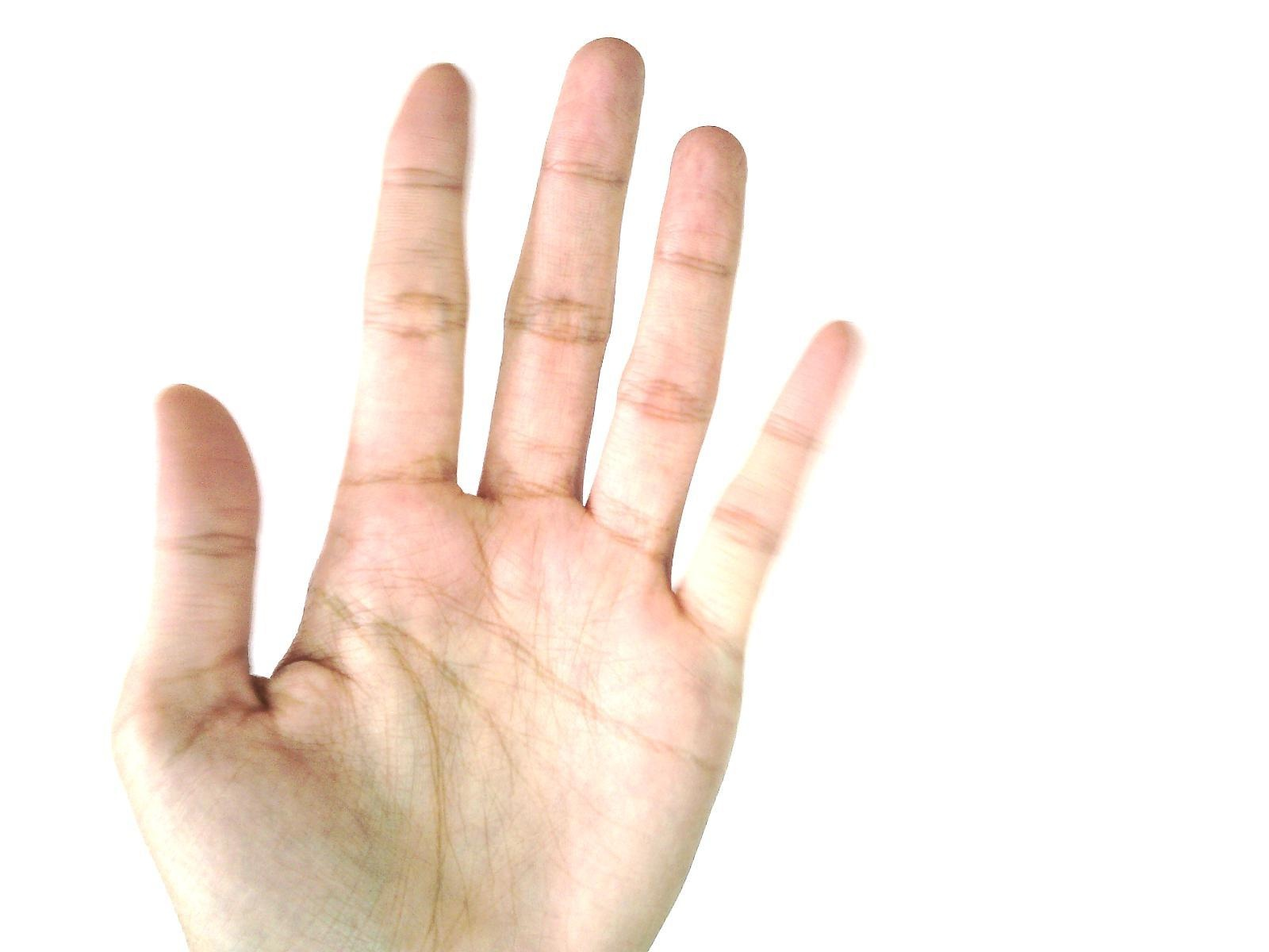open_palm: (109, 36, 868, 951)
